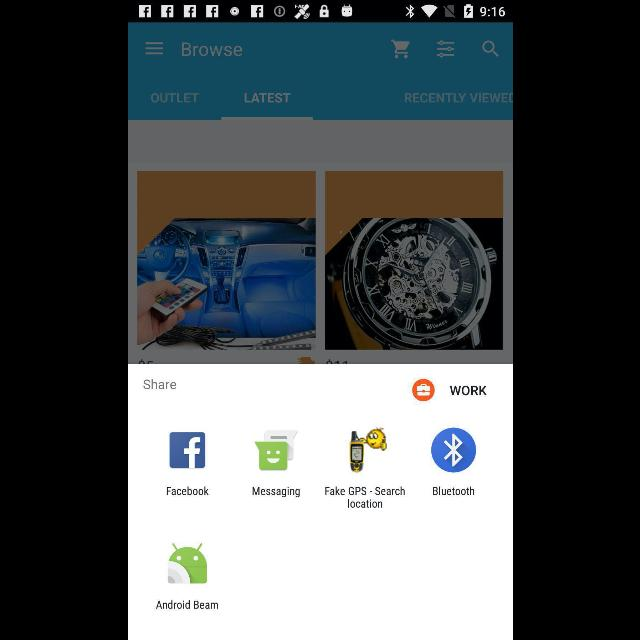icon: (430, 427, 476, 473), (169, 432, 205, 468), (412, 378, 434, 402), (389, 40, 408, 59), (436, 40, 454, 58), (482, 41, 498, 58), (144, 42, 162, 56)
image: (324, 218, 502, 349), (137, 218, 315, 349), (348, 427, 387, 473), (254, 430, 298, 470), (168, 542, 206, 584)
panel: (128, 364, 512, 640)
text: (324, 486, 404, 508), (404, 93, 512, 103), (180, 43, 242, 57), (155, 600, 217, 610), (252, 487, 300, 498), (150, 93, 198, 103), (244, 93, 290, 103), (432, 486, 474, 496), (166, 486, 208, 496), (142, 378, 176, 389), (449, 386, 486, 396)
uppertaskbar: (128, 1, 512, 23)
